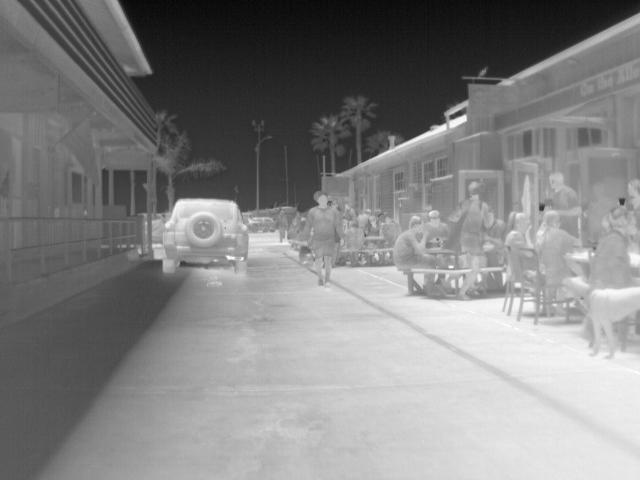car: (161, 196, 249, 272), (249, 216, 276, 232)
dog: (556, 276, 639, 355)
person: (533, 209, 582, 287), (588, 208, 635, 288), (304, 190, 343, 285), (453, 191, 495, 270), (396, 212, 446, 267), (501, 210, 528, 285), (542, 174, 582, 210), (419, 209, 449, 245), (380, 212, 401, 249), (344, 220, 366, 250), (622, 178, 639, 211), (276, 209, 289, 241)
